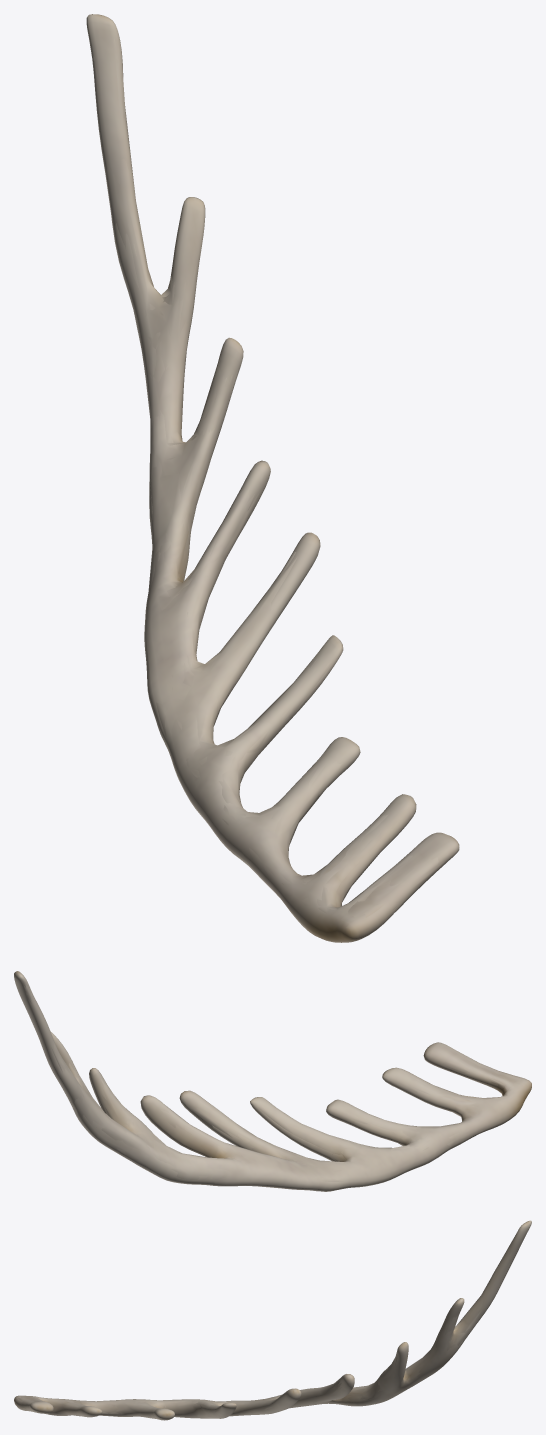
The model's file is Costal Cartilage Left.fbx.
3 renders of one model, top to bottom at view 1: azimuth 30°, elevation 25°; view 2: azimuth 150°, elevation 25°; view 3: azimuth 270°, elevation 25°, orthographic. The views are drawn at different scales.
Parts seen in each view (by area): view 1: Costal Cartilage Left, Costal Cartilage Left low; view 2: Costal Cartilage Left, Costal Cartilage Left low; view 3: Costal Cartilage Left, Costal Cartilage Left low.
Part boxes in pixels (x1,y1,x2,y2): Costal Cartilage Left: [86, 14, 459, 942]; Costal Cartilage Left low: [90, 38, 444, 917]; Costal Cartilage Left: [14, 971, 531, 1191]; Costal Cartilage Left low: [24, 985, 521, 1190]; Costal Cartilage Left: [14, 1220, 531, 1420]; Costal Cartilage Left low: [18, 1235, 515, 1418].
Size of the model in its own units: 7.75 by 12.43 by 22.92.
1 material, 1 textured.
